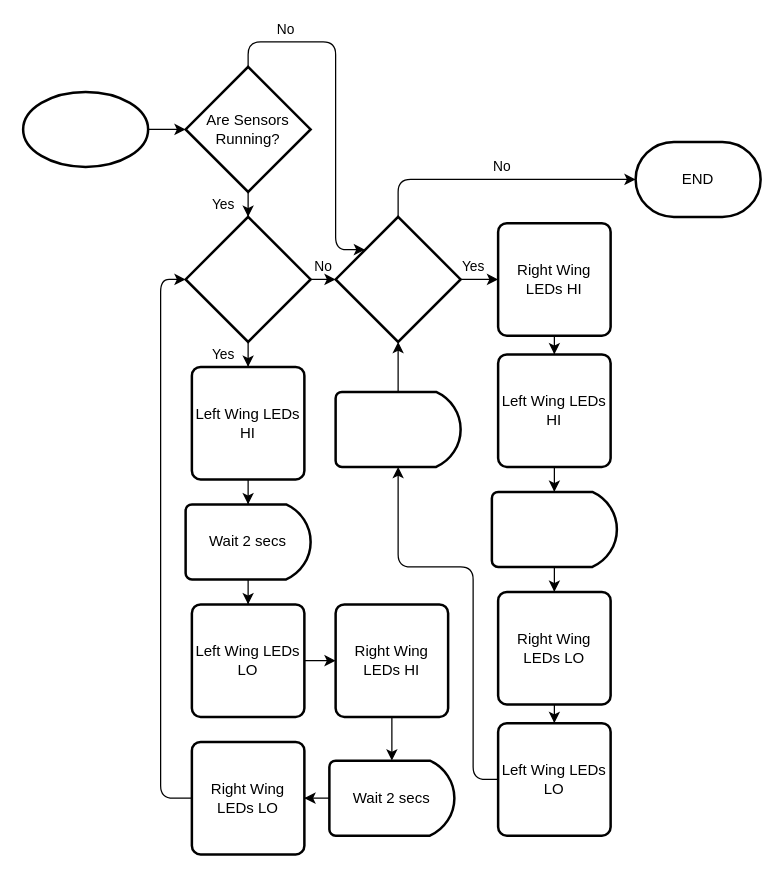
Image size: 783x878. Some labels were removed from this diagram. Each missing label, with the box of its shape:
Is Battery Charge>20%: (334, 215, 461, 342)
Is Battery Charge>40%?: (184, 215, 311, 342)
START: (21, 90, 149, 168)
Wait 1 secs: (490, 490, 618, 568)
Wait 5 secs: (334, 390, 461, 468)
